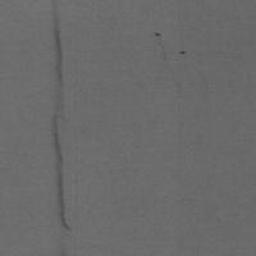Inclusion: (51, 0, 70, 230)
